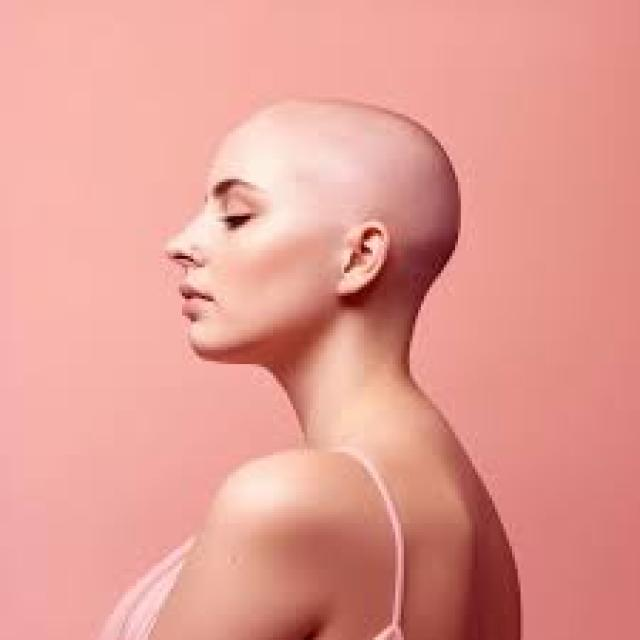Nonhelmet: (152, 82, 479, 384)
